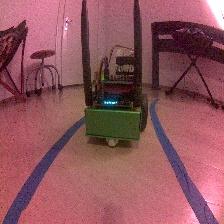rob: (83, 54, 148, 147)
